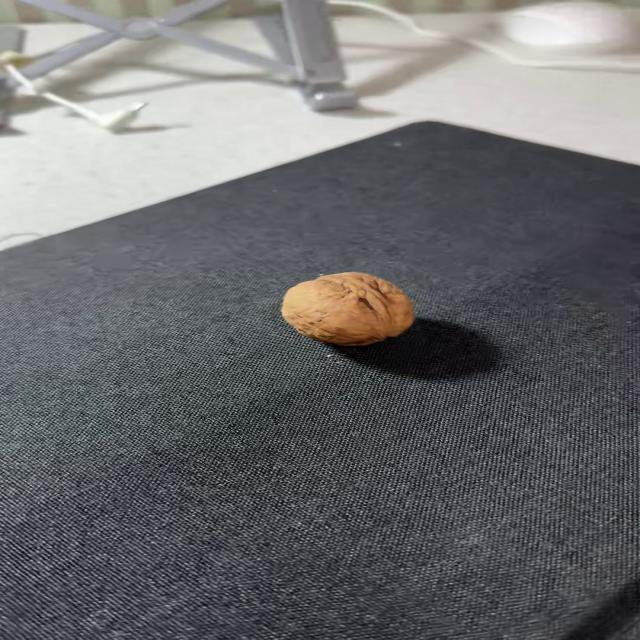nuts-good: (282, 272, 414, 346)
